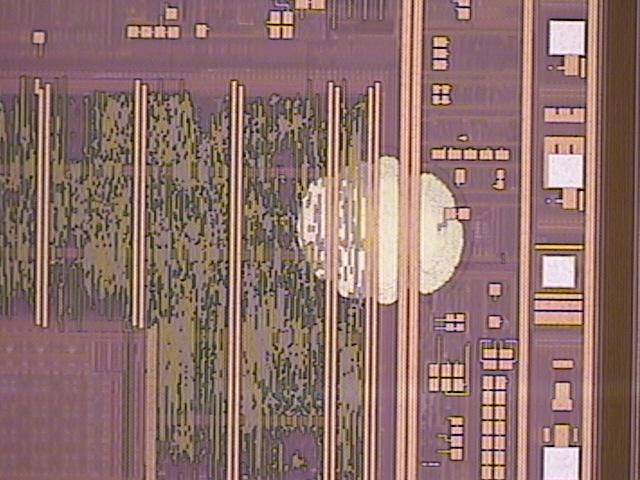BLOCK ETCH: (291, 143, 474, 311)
